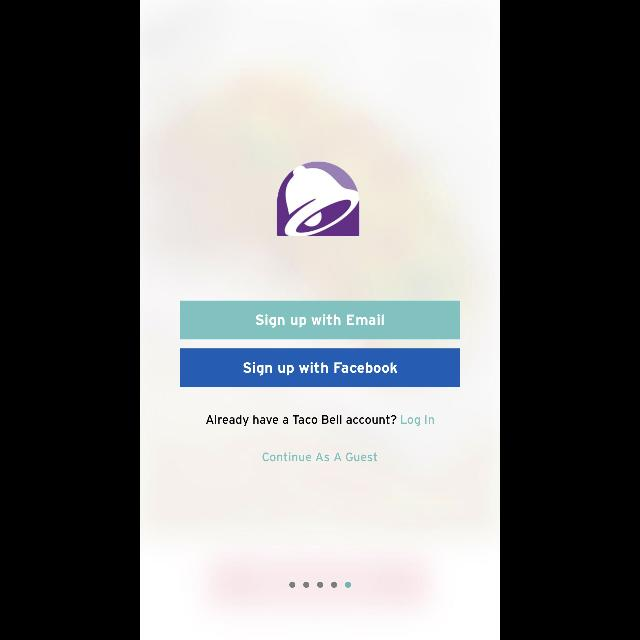image: (276, 162, 360, 236)
pageindicator: (289, 582, 351, 588)
text: (206, 414, 434, 426), (262, 452, 378, 462)
textbutton: (180, 348, 460, 388), (180, 300, 460, 340)
